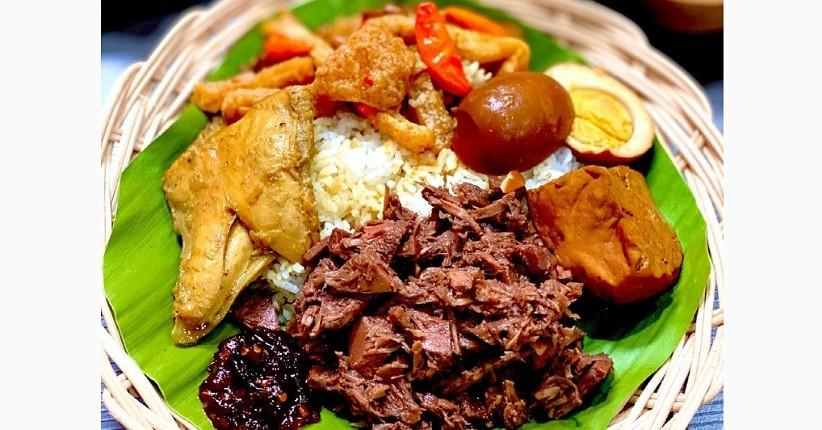gudeg: (163, 3, 683, 430)
